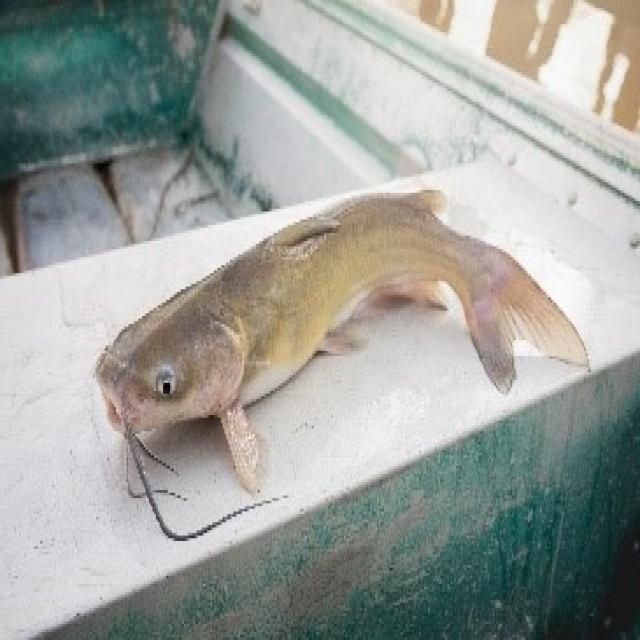Catfish: (94, 184, 588, 544)
